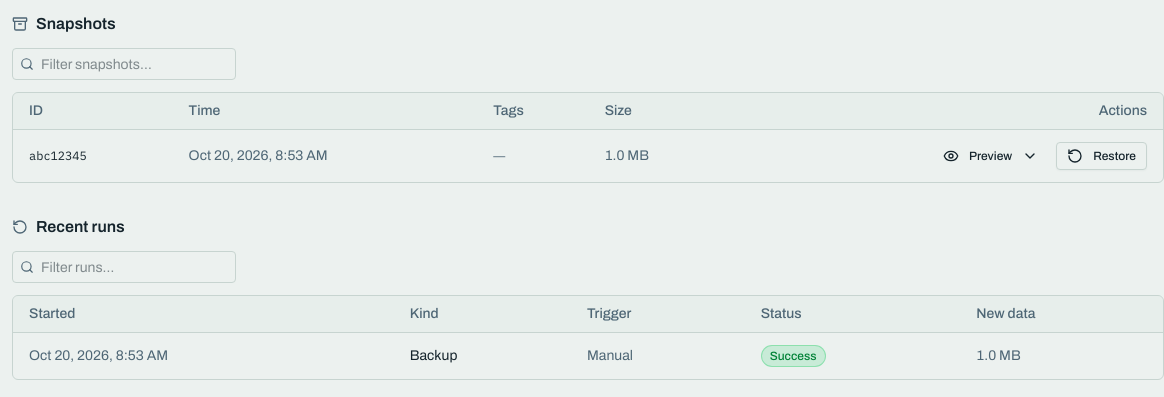
BackupsTab — snapshots with no tags or paths (agent-os-yino.1) › filters an untagged snapshot instead of throwing
Expected: the text "abc12345" is shown, [29,148,87,163]
Type "zzz-matches-nothing" into the field with placeholder "Filter snapshots…" at (124, 64), box [12,48,236,80]
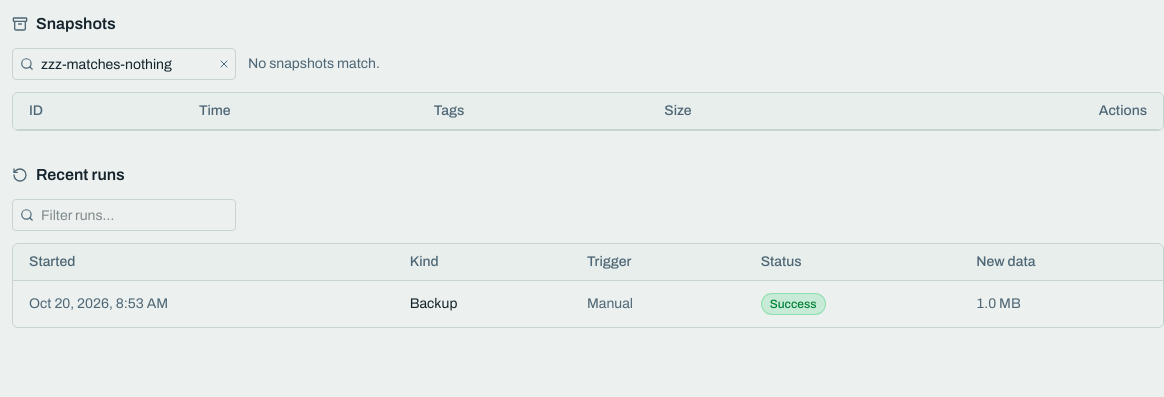
Result: the text "No snapshots match." is shown at [248,54,380,74]
